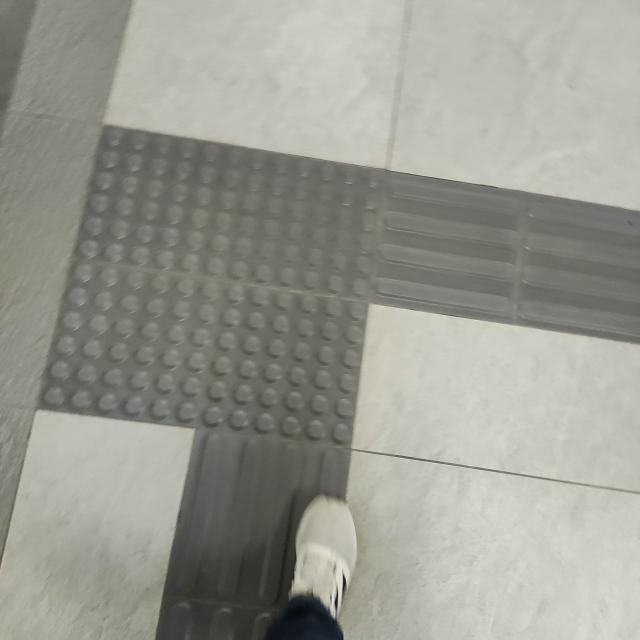kanan: (86, 85, 620, 559)
